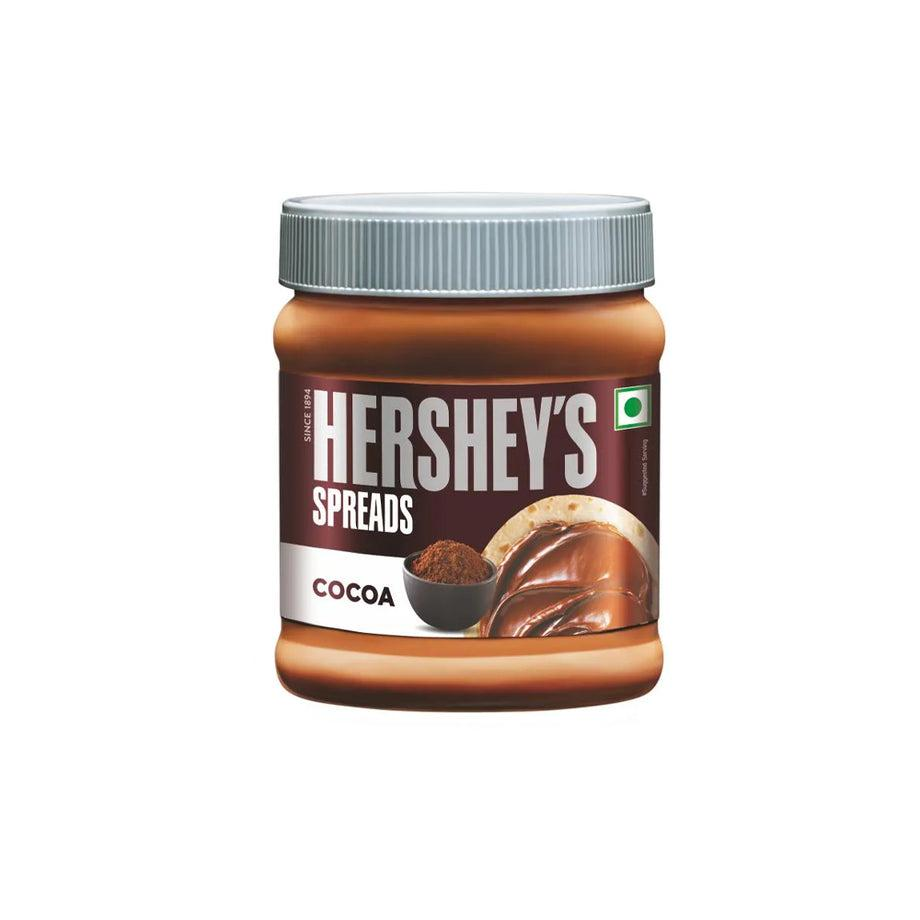Hershey-s: (260, 195, 672, 711)
